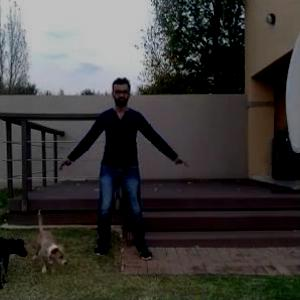land: (61, 88, 202, 248)
